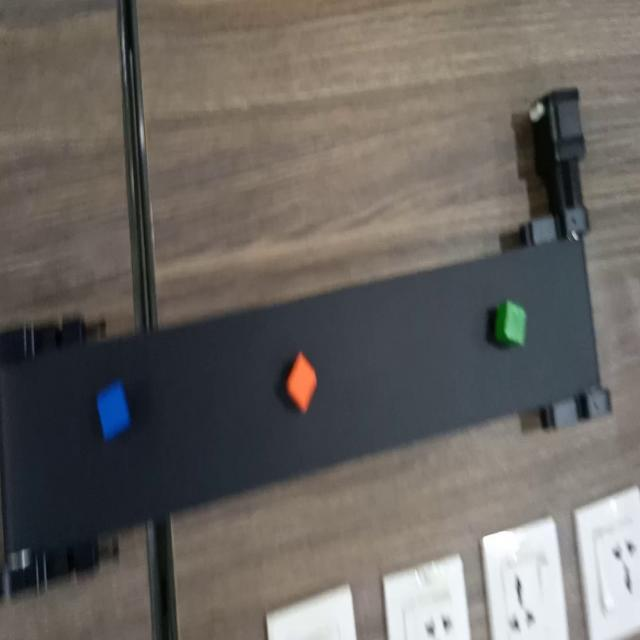cube: (486, 292, 536, 353), (92, 373, 136, 441)
